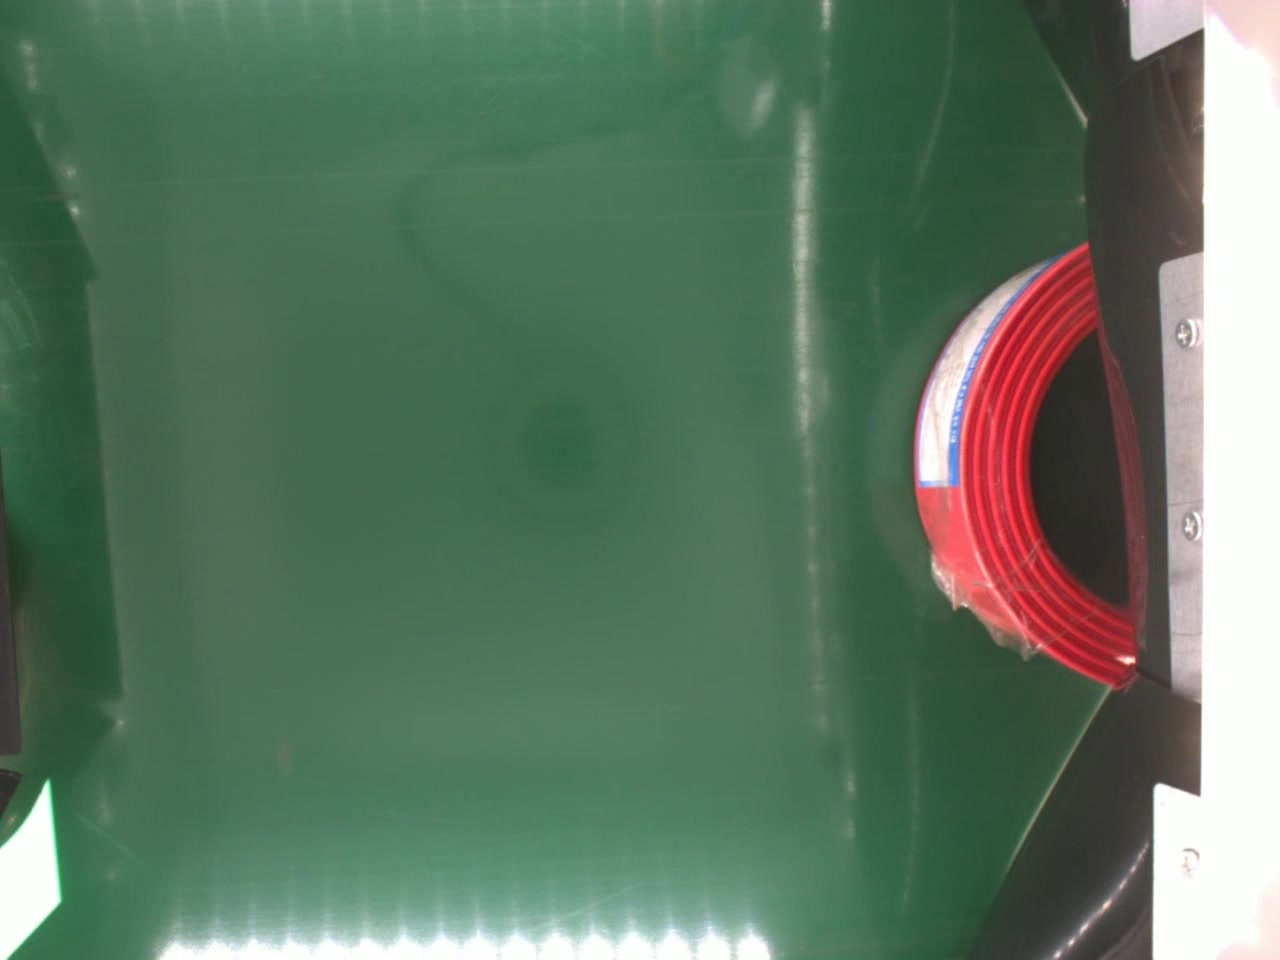red: (912, 242, 1139, 691)
